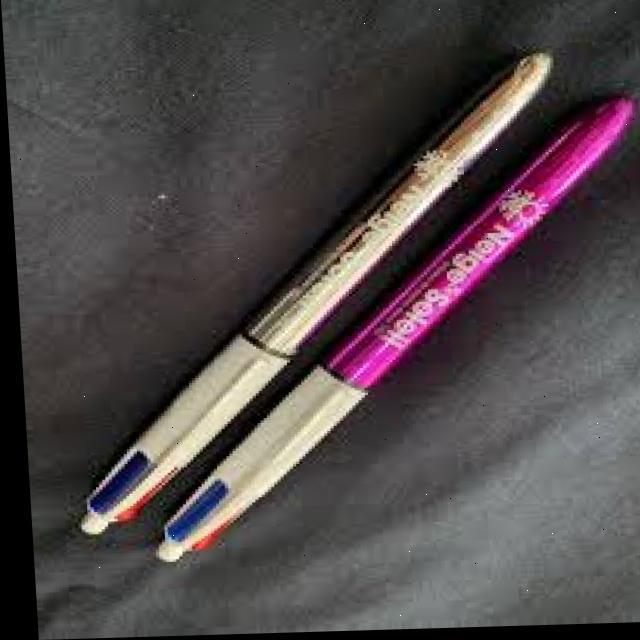pen: (55, 55, 574, 531), (128, 94, 640, 563)
